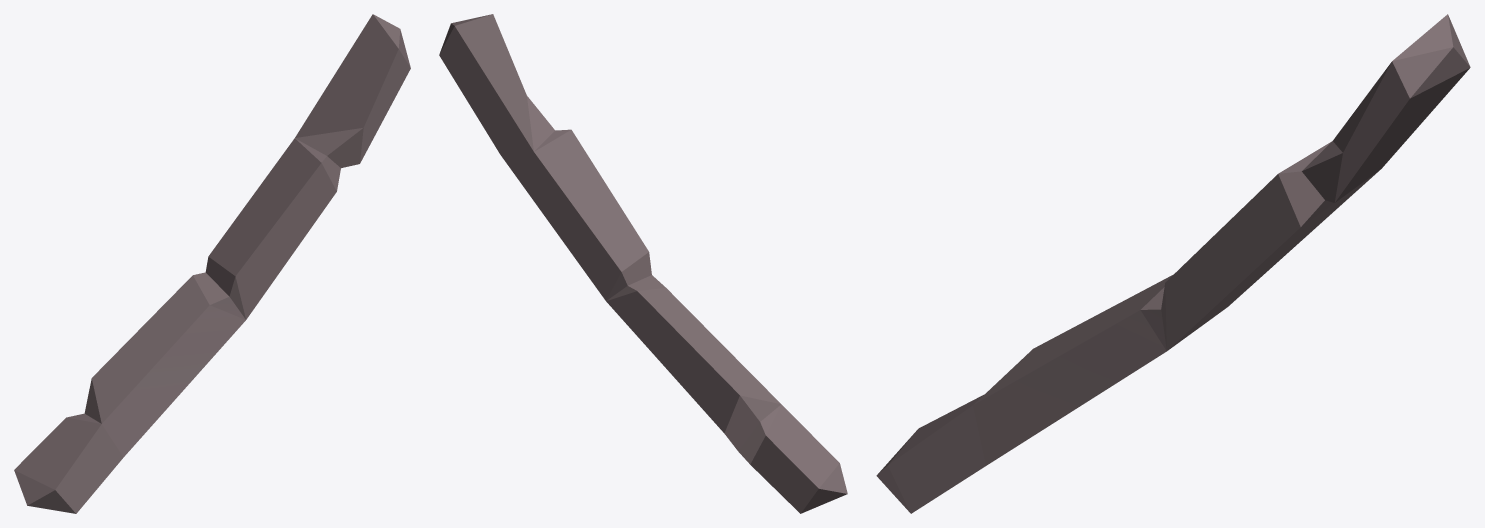
File: SM_L_R_Home_Roof_Side_Pillar.fbx
3 views of the same model, side by side, from view 1: azimuth 30°, elevation 25°; view 2: azimuth 150°, elevation 25°; view 3: azimuth 330°, elevation 25° (orthographic). The views are drawn at different scales.
Parts seen in each view (by area): view 1: SM_L_R_Home_Roof_side_pillar; view 2: SM_L_R_Home_Roof_side_pillar; view 3: SM_L_R_Home_Roof_side_pillar.
Boxes of the visible parts, x1,y1,x2,y2 form: SM_L_R_Home_Roof_side_pillar: [14, 14, 410, 513]; SM_L_R_Home_Roof_side_pillar: [439, 14, 847, 513]; SM_L_R_Home_Roof_side_pillar: [876, 14, 1470, 513].
Size of the model in its own units: 253 by 253 by 42.91.
